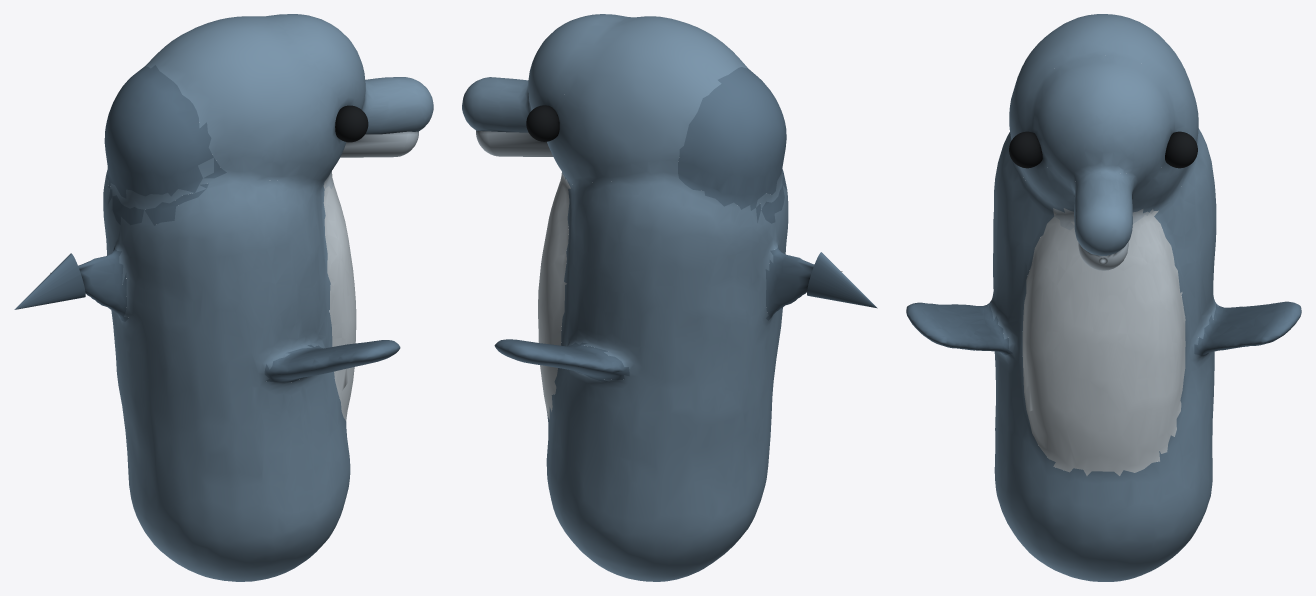
Rendered from jag-har-bott-har-i-sju-ar.glb.
3 views of the same model, side by side, from view 1: azimuth 30°, elevation 25°; view 2: azimuth 150°, elevation 25°; view 3: azimuth 270°, elevation 25° (orthographic).
Visible parts, largest first — view 1: golfinho__r0, golfinho__r4, golfinho__r3, golfinho__r2; view 2: golfinho__r0, golfinho__r4, golfinho__r3, golfinho__r1; view 3: golfinho__r0, golfinho__r2, golfinho__r1, golfinho__r3.
Boxes of the visible parts, left/top/right/bottom form: golfinho__r0: left=50, top=14, right=433, bottom=581; golfinho__r4: left=14, top=253, right=85, bottom=309; golfinho__r3: left=340, top=131, right=418, bottom=157; golfinho__r2: left=335, top=105, right=368, bottom=142; golfinho__r0: left=462, top=14, right=842, bottom=581; golfinho__r4: left=807, top=252, right=877, bottom=308; golfinho__r3: left=476, top=130, right=553, bottom=156; golfinho__r1: left=526, top=105, right=559, bottom=141; golfinho__r0: left=906, top=14, right=1301, bottom=581; golfinho__r2: left=1009, top=131, right=1042, bottom=168; golfinho__r1: left=1165, top=131, right=1197, bottom=168; golfinho__r3: left=1078, top=242, right=1128, bottom=270.
Size of the model in its own units: 1.25 by 1.58 by 1.04.
